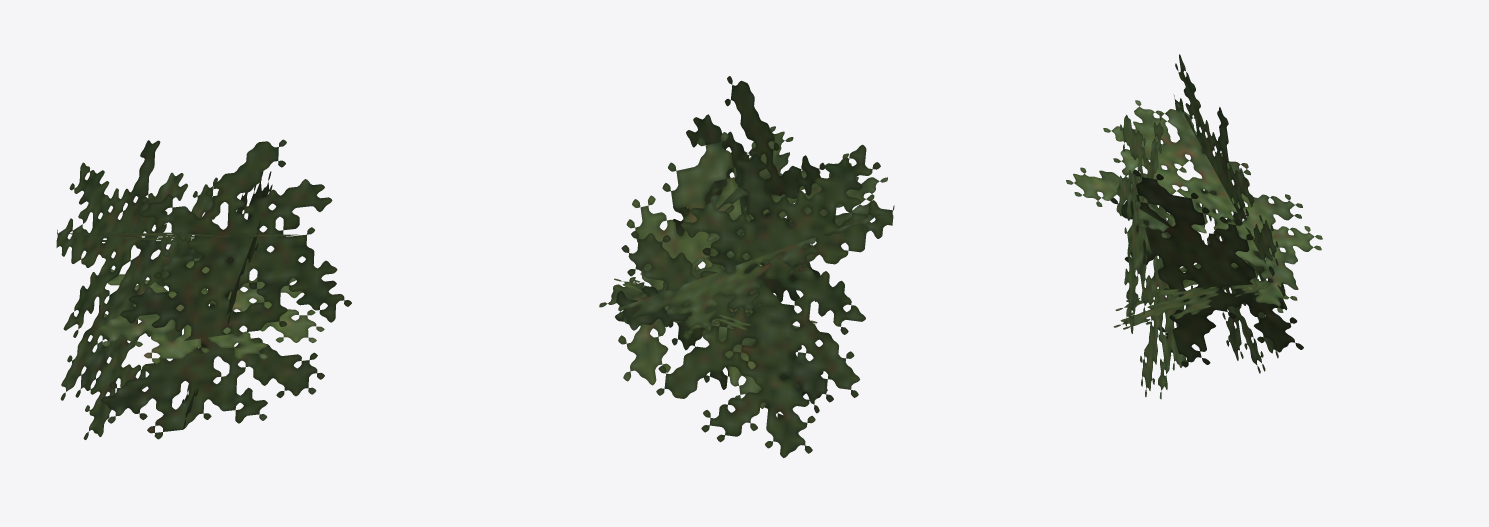
File: pine_leaves_dark_vertical_slab_2.obj
3 views of the same model, side by side, from view 1: azimuth 30°, elevation 25°; view 2: azimuth 150°, elevation 25°; view 3: azimuth 270°, elevation 25° (orthographic). The views are drawn at different scales.
Visible parts, largest first — view 1: plane; view 2: plane; view 3: plane.
Part boxes in pixels (x1,y1,x2,y2): plane: [56, 139, 351, 439]; plane: [599, 76, 894, 457]; plane: [1066, 54, 1322, 399].
Size of the model in its own units: 1.98 by 1.82 by 2.13.
